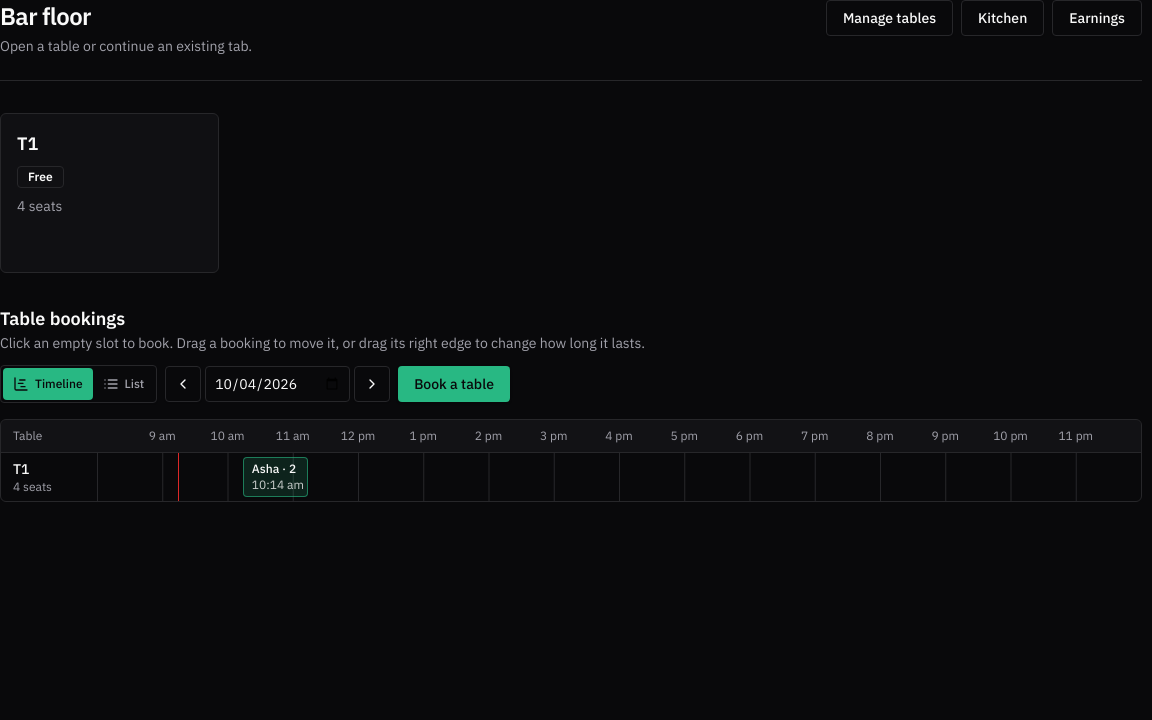
Test: /bar table bookings › seats a booked guest and opens the tab dialog prefilled with their name
The image size is (1152, 720).
Click the button "Asha · 2 10:14 am to 11:14 am": (276, 477) [243,457,308,497]
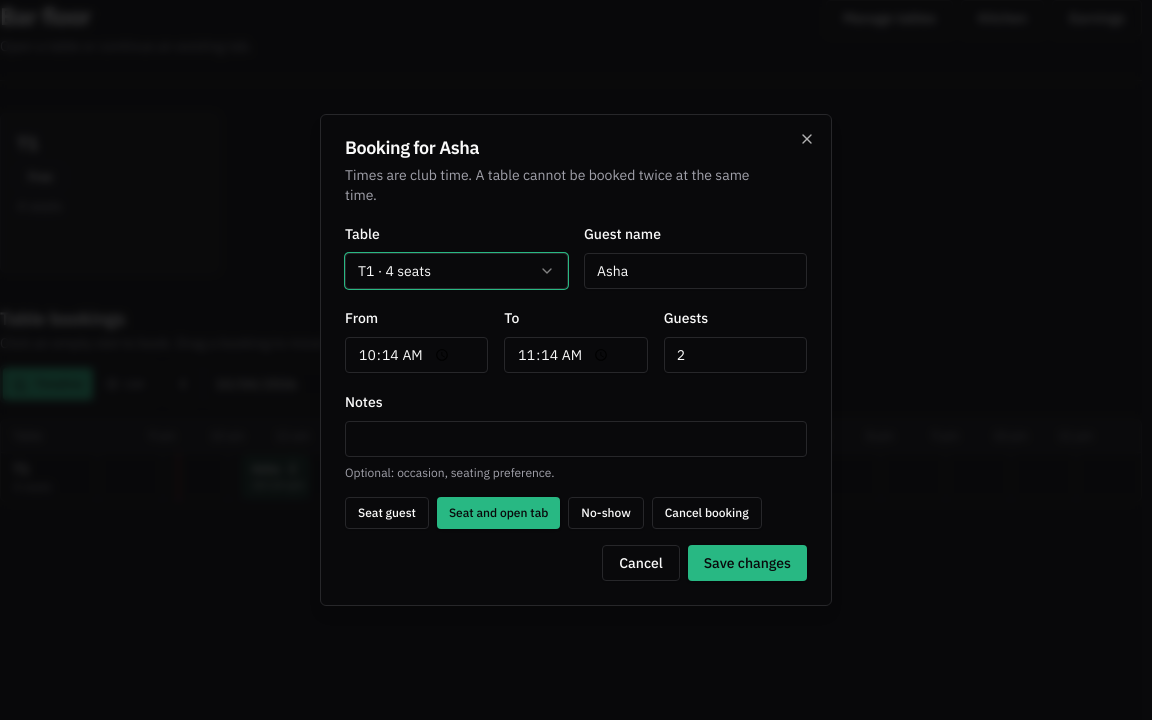
Click the button "Seat and open tab": (499, 513) [437,497,560,529]
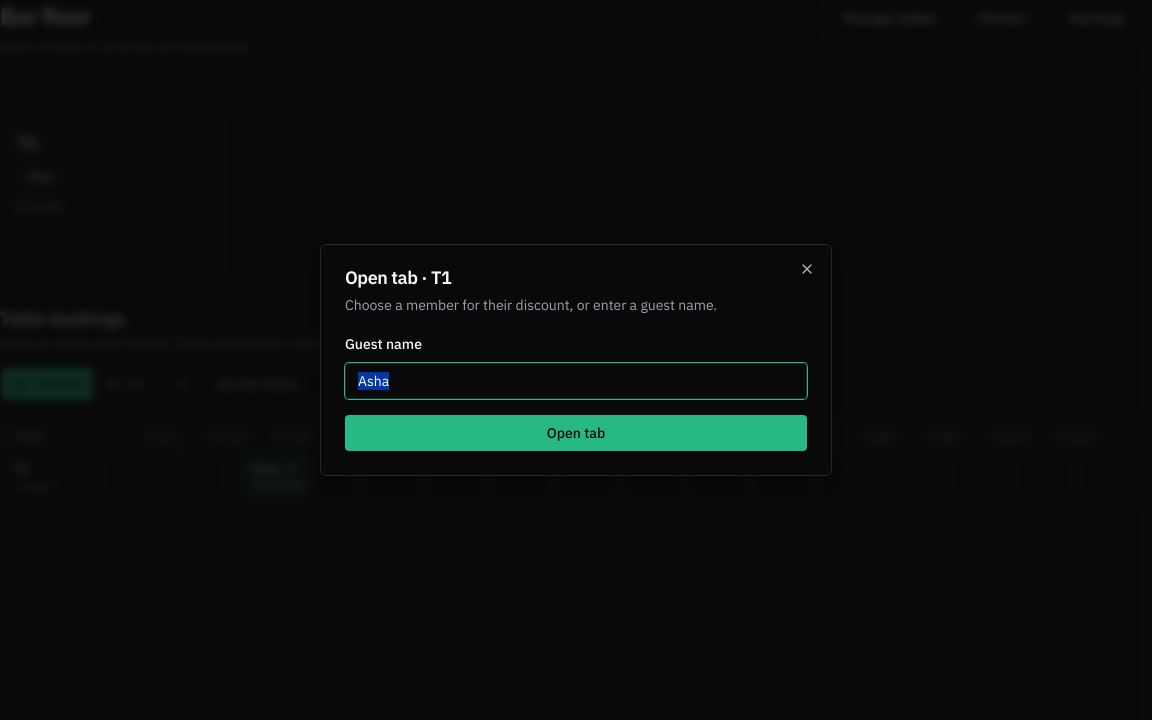
Result: the field labelled "Guest name" holds "Asha" at [345,363,807,399]
Result: the heading "Open tab · T1" is shown at [345,266,451,289]
